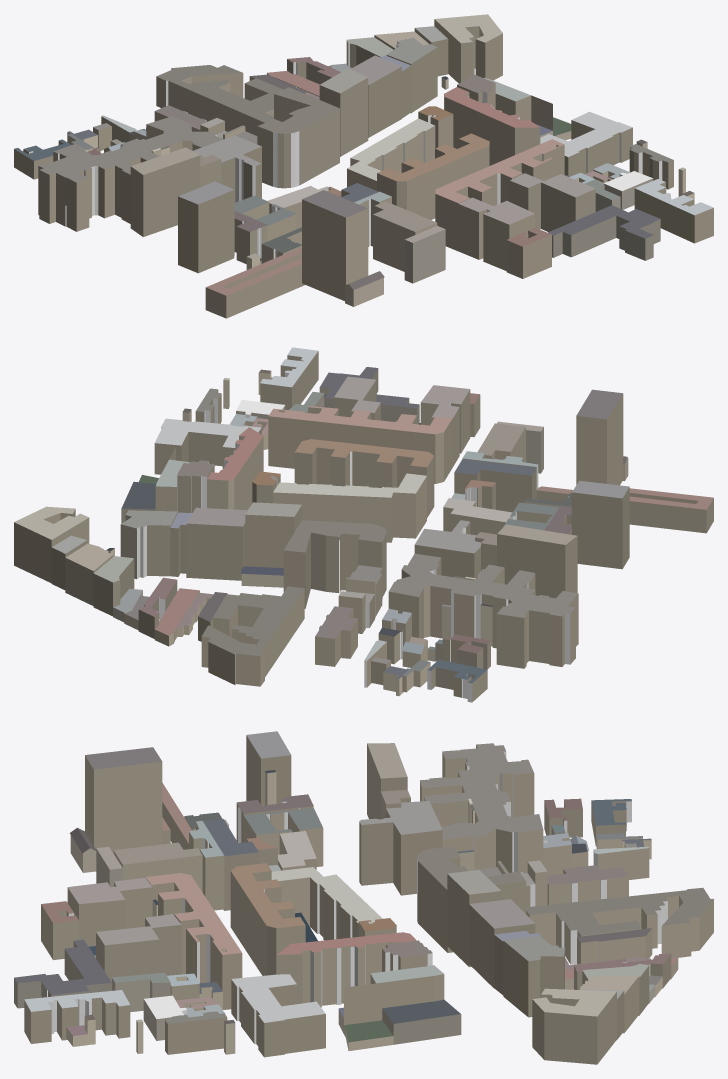
3 views of the same model, one above another, from view 1: azimuth 30°, elevation 25°; view 2: azimuth 150°, elevation 25°; view 3: azimuth 270°, elevation 25° (orthographic). The views are drawn at different scales.
Visible parts, largest first — view 1: tuile; view 2: tuile; view 3: tuile.
Part boxes in pixels (<box>): tuile: <box>14,14,713,318</box>; tuile: <box>14,347,713,702</box>; tuile: <box>14,731,713,1064</box>.
Size of the model in its own units: 275 by 56.43 by 295.
